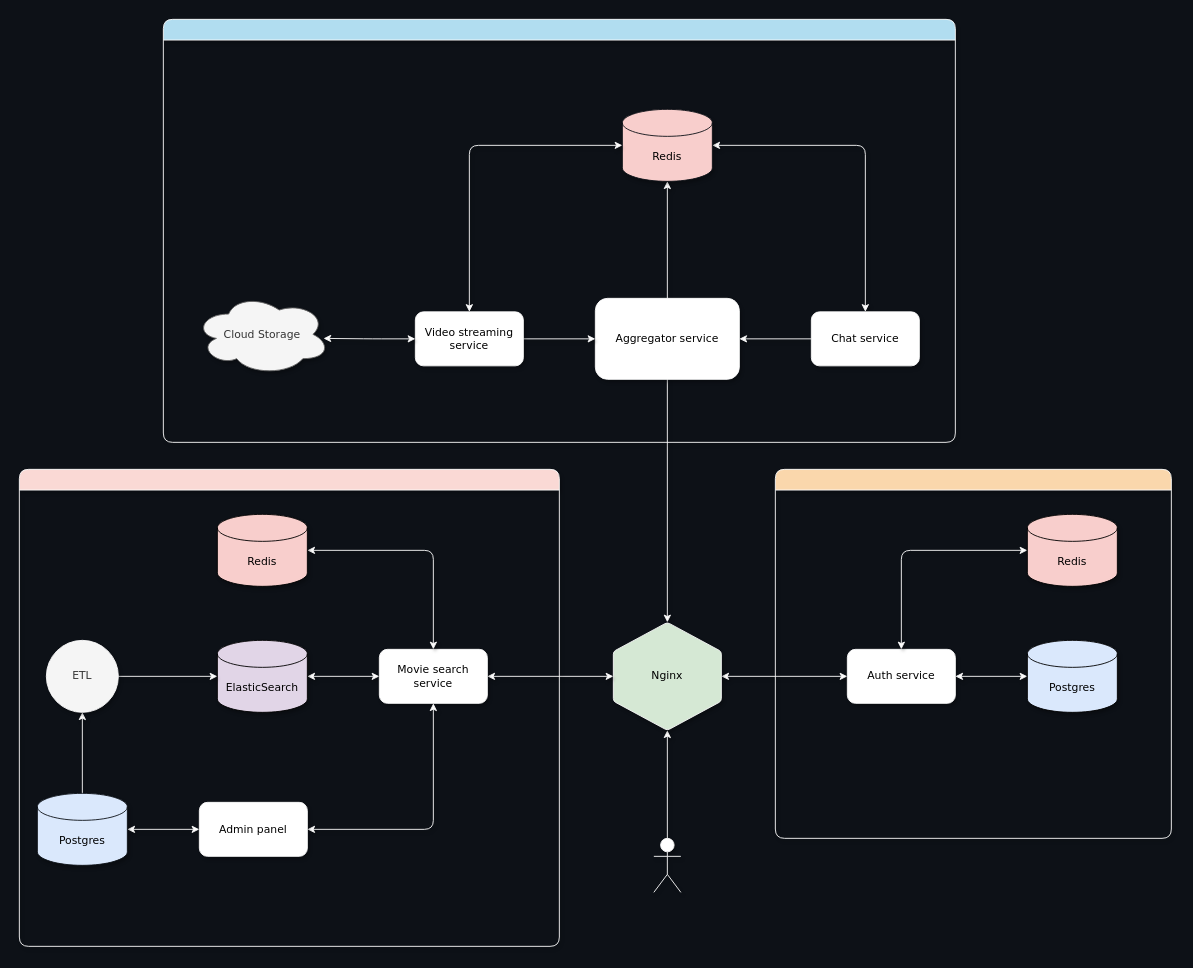
Image size: 1193x968. Some labels were removed from this diagram. The shapes that lost their labels are listed below. From the top down, each one's centre as x and y in pixels, then its label:
the point at 560,232: Movies together
the point at 974,655: Users
the point at 290,709: Content
the point at 667,866: User
